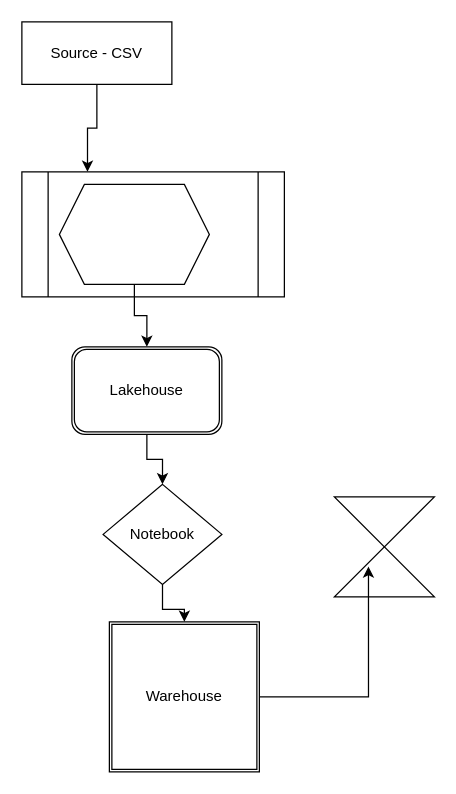
The diagram is 456 pixels wide and 794 high, and some of its shapes have lost their labels. The centre of each missing label's shape, as x and y in pixels:
Copy Data Activity: (133,233)
POWER BI: (383,546)
